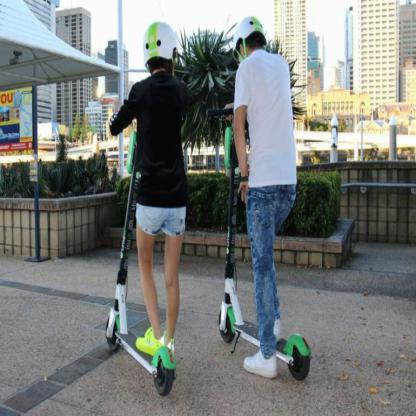scooter: (204, 106, 311, 384), (104, 100, 176, 397)
with helmet: (143, 19, 178, 82), (233, 17, 267, 71)
